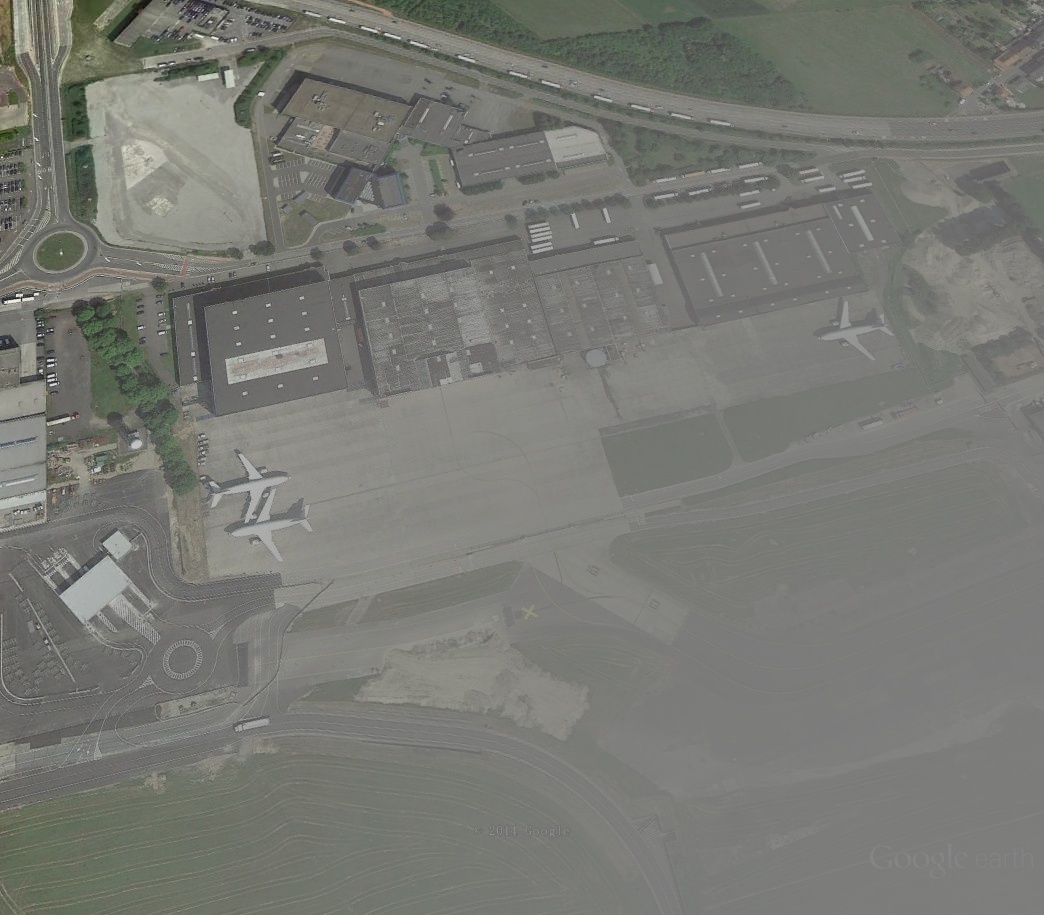aircraft: (226, 485, 317, 566), (206, 452, 293, 530), (814, 299, 898, 365)
